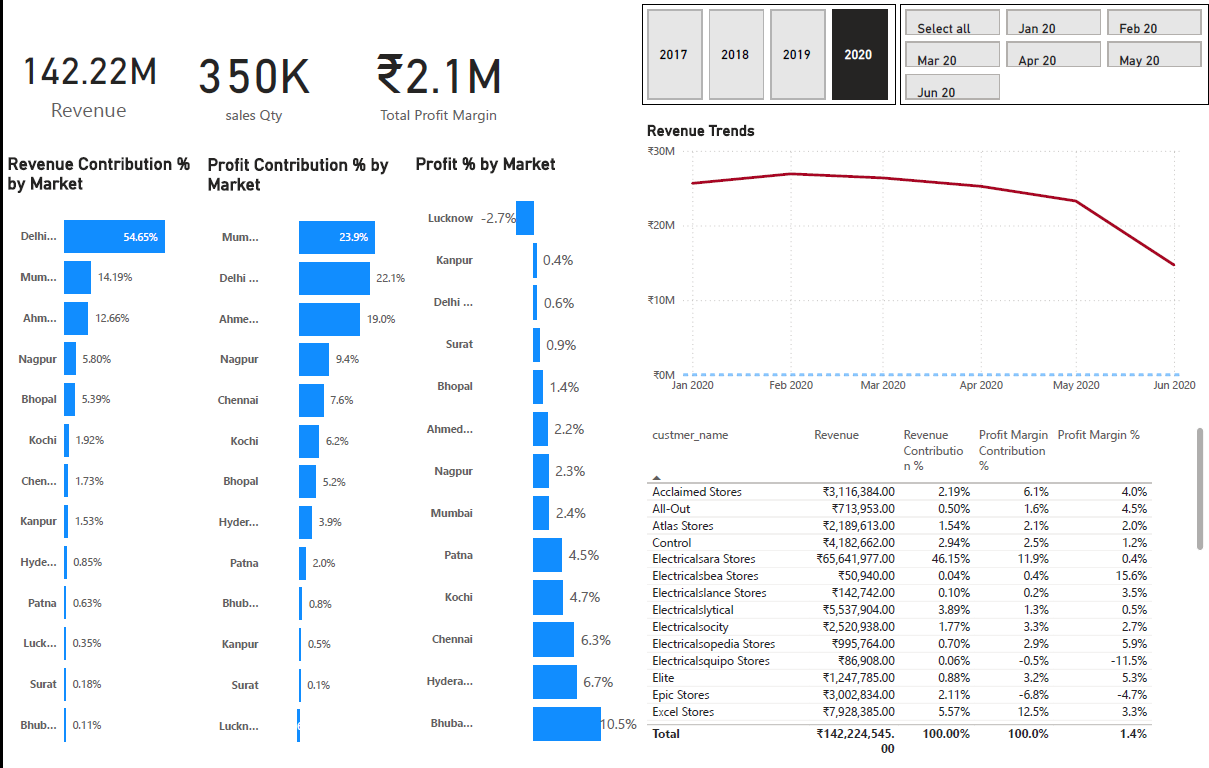

The page's visual inventory and layout, read from the dashboard file:
{"tool":"powerbi","page":{"name":"Profit Analysis","canvas":[1350,850],"ordinal":2},"visuals":[{"type":"card","fields":{"Values":["Sum(sales transactions.sales_amount)"]},"box":[0,0,191.6,168.4],"z":0},{"type":"card","fields":{"Values":["BaseMeasures.sales Qty"]},"box":[188.6,0,183.9,168.4],"z":1000},{"type":"barChart","title":"Profit %  by Market","fields":{"Category":["sales markets.markets_name"],"Y":["BaseMeasures.Profit Margin %"]},"box":[457.4,166.9,258.1,681.5],"z":2000},{"type":"barChart","title":"Profit Contribution % by Market","fields":{"Y":["BaseMeasures.Profit Margin Contribution %"],"Category":["sales markets.markets_name"]},"box":[224.1,168.4,233.4,681.5],"z":3000},{"type":"advancedSlicerVisual","fields":{"Values":["sales date.year"]},"box":[715.7,0,283.9,112.2],"z":4000},{"type":"advancedSlicerVisual","fields":{"Values":["sales date.cy_date"]},"box":[1004.7,0,345.1,112.2],"z":5000},{"type":"tableEx","title":"Top 5 Customer","fields":{"Values":["sales customers.custmer_name","BaseMeasures.Revenue","BaseMeasures.Revenue Contribution %","BaseMeasures.Profit Margin Contribution %","BaseMeasures.Profit Margin %"]},"box":[715.5,468.3,633.6,380.2],"z":6000},{"type":"lineChart","title":"Revenue Trends","fields":{"Category":["sales date.cy_date.Variation.Date Hierarchy.Year","sales date.cy_date.Variation.Date Hierarchy.Quarter","sales date.cy_date.Variation.Date Hierarchy.Month","sales date.cy_date.Variation.Date Hierarchy.Day"],"Y":["BaseMeasures.Revenue"]},"box":[715.5,131.4,624.4,313.7],"z":8000},{"type":"card","fields":{"Values":["BaseMeasures.Total Profit Margin"]},"box":[395.6,0,183.9,168.4],"z":8001},{"type":"barChart","title":"Revenue Contribution % by Market","fields":{"Y":["BaseMeasures.Revenue Contribution %"],"Category":["sales markets.markets_name"]},"box":[0,166.9,224.1,681.5],"z":8002}]}

Visuals, with their boxes in screenshot pixels (x1, y1, x2, y2), scaled from the page's 1350x850 canvas onto the 1209x768 screenshot:
card - Sum(sales transactions.sales_amount): (left=0, top=0, right=172, bottom=152)
card - BaseMeasures.sales Qty: (left=169, top=0, right=334, bottom=152)
"Profit %  by Market" barChart: (left=410, top=151, right=641, bottom=767)
"Profit Contribution % by Market" barChart: (left=201, top=152, right=410, bottom=767)
advancedSlicerVisual - sales date.year: (left=641, top=0, right=895, bottom=101)
advancedSlicerVisual - sales date.cy_date: (left=900, top=0, right=1208, bottom=101)
"Top 5 Customer" tableEx: (left=641, top=423, right=1208, bottom=767)
"Revenue Trends" lineChart: (left=641, top=119, right=1200, bottom=402)
card - BaseMeasures.Total Profit Margin: (left=354, top=0, right=519, bottom=152)
"Revenue Contribution % by Market" barChart: (left=0, top=151, right=201, bottom=767)
